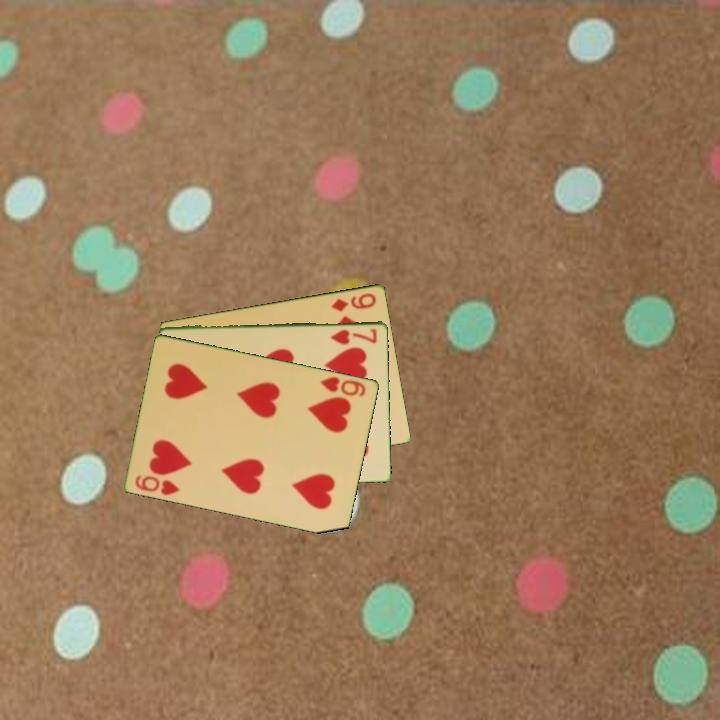6h: (132, 471, 183, 498), (317, 373, 369, 399)
7h: (327, 325, 380, 347)
9d: (328, 289, 379, 314)
